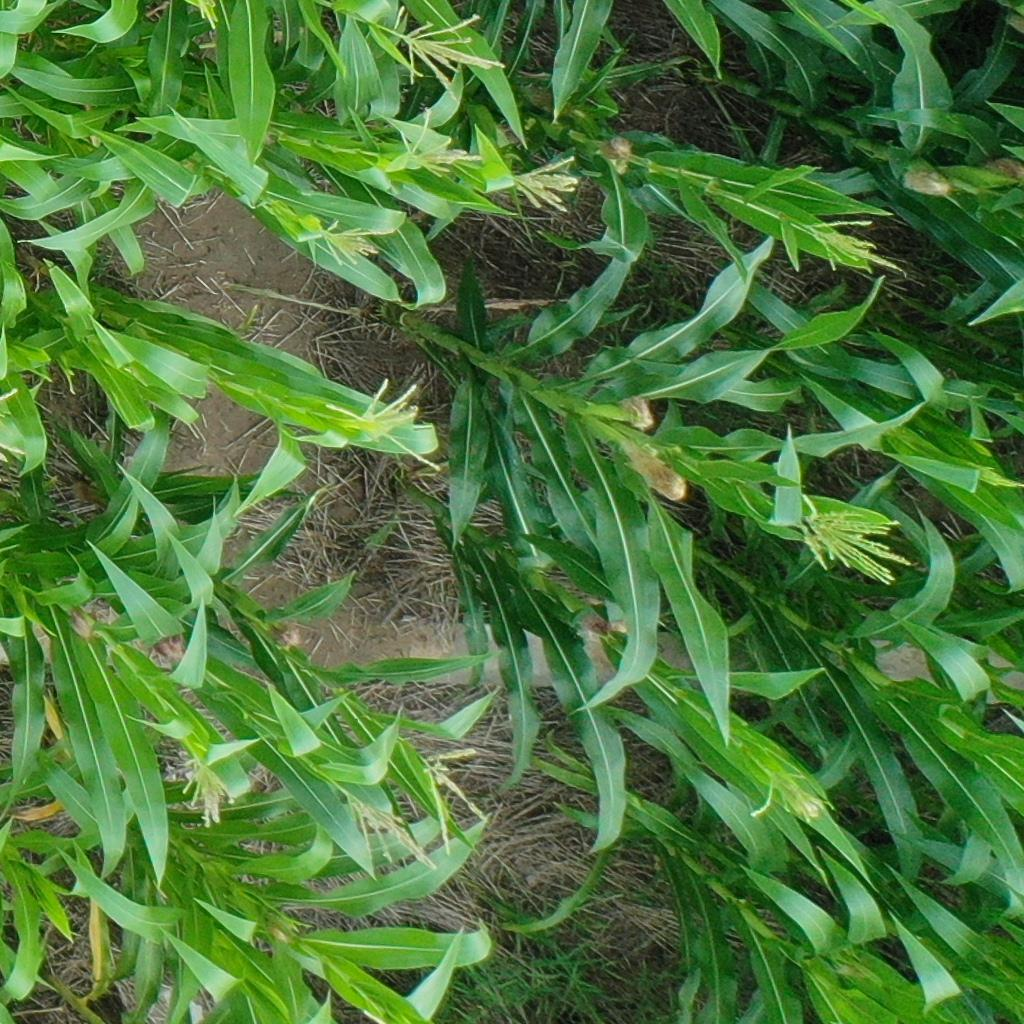Tassel: (392, 7, 507, 104), (323, 379, 443, 471), (800, 494, 912, 588), (344, 794, 440, 871), (422, 747, 490, 855), (808, 216, 907, 276), (396, 109, 482, 177), (296, 219, 391, 268), (510, 156, 581, 215), (749, 769, 828, 822), (182, 757, 235, 829), (976, 466, 1024, 490), (196, 1, 220, 31)
